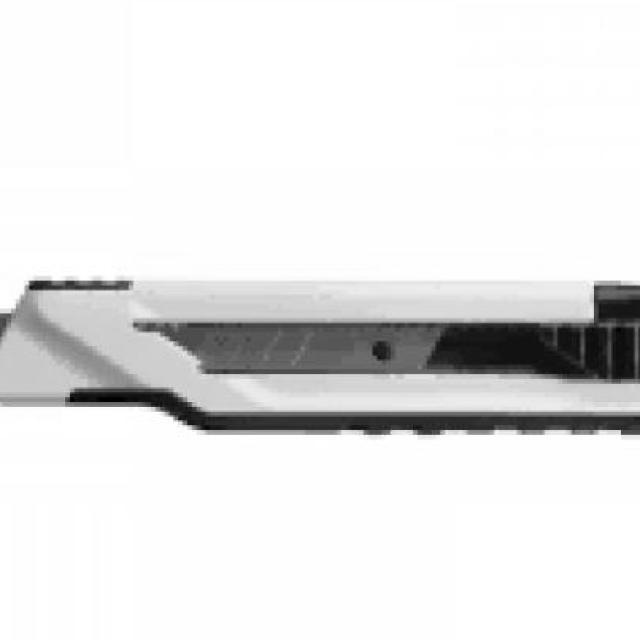estilete: (0, 280, 640, 430)
